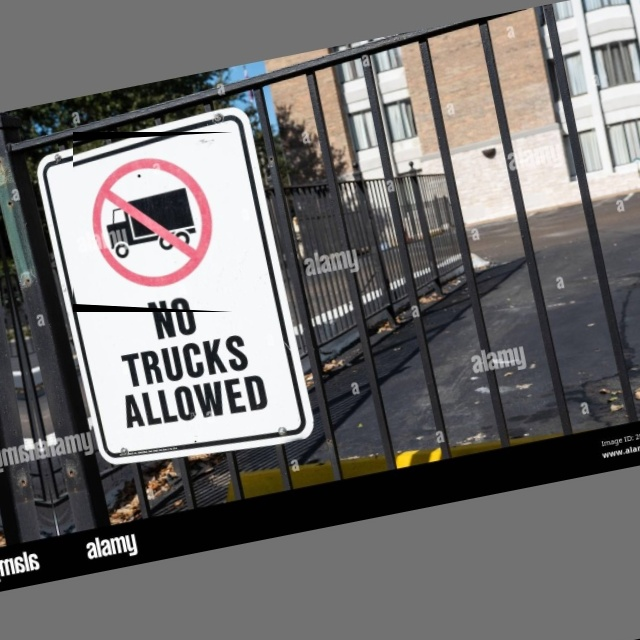Truck_Prohibited: (73, 132, 233, 312)
